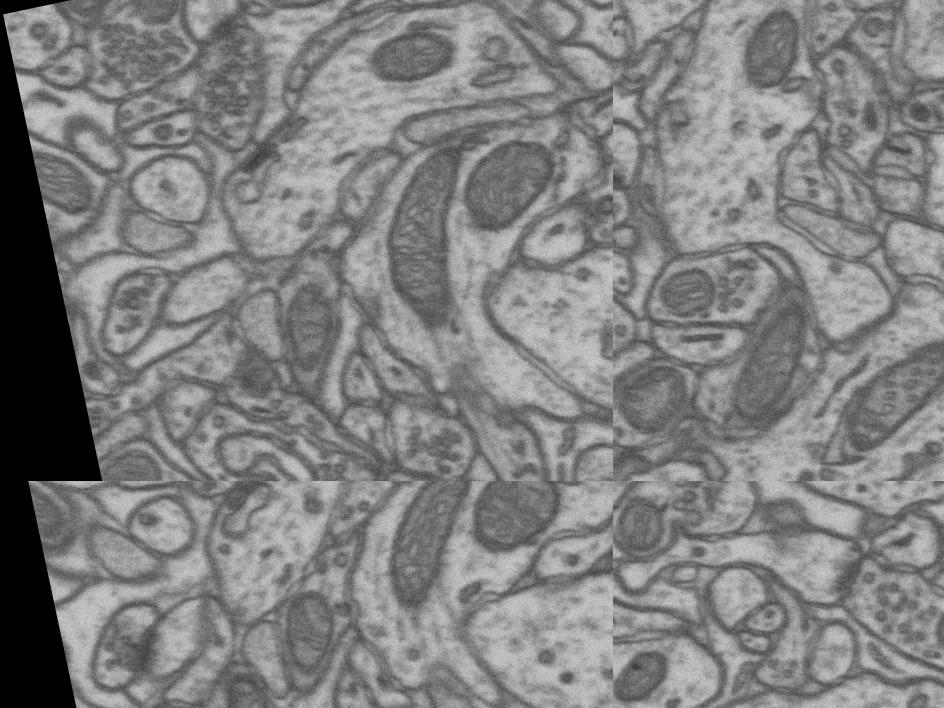mitochondria: (359, 139, 498, 344), (698, 286, 850, 442), (360, 481, 496, 622), (819, 324, 944, 460), (446, 126, 571, 244), (451, 481, 576, 568), (720, 0, 820, 95), (268, 578, 349, 686), (269, 277, 350, 384), (613, 346, 701, 443), (362, 15, 469, 94), (638, 247, 728, 334), (32, 136, 105, 224), (613, 481, 680, 559), (613, 642, 678, 708), (205, 660, 285, 708), (50, 0, 166, 31), (27, 481, 77, 551), (239, 0, 373, 22), (97, 442, 172, 481), (918, 586, 944, 675), (127, 0, 191, 29)
